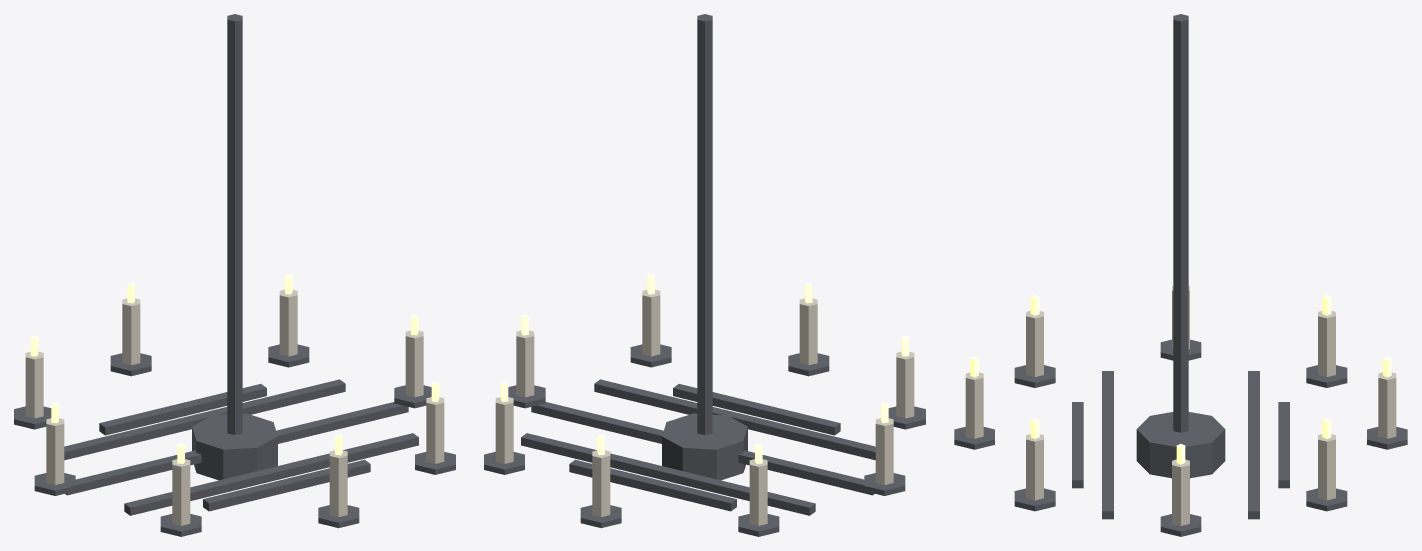
The model's file is haunted_chandelier.glb.
3 views of the same model, side by side, from view 1: azimuth 30°, elevation 25°; view 2: azimuth 150°, elevation 25°; view 3: azimuth 270°, elevation 25° (orthographic).
Visible parts, largest first — view 1: Haunted_Chandelier; view 2: Haunted_Chandelier; view 3: Haunted_Chandelier.
Part boxes in pixels (x1,y1,x2,y2): Haunted_Chandelier: [14, 14, 455, 536]; Haunted_Chandelier: [484, 14, 925, 536]; Haunted_Chandelier: [954, 14, 1407, 536].
Bounding box in the file's own units: 1.56 × 1.66 × 1.54.
